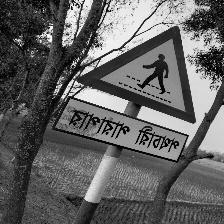Pedestrian-crossing: (53, 23, 195, 171)
